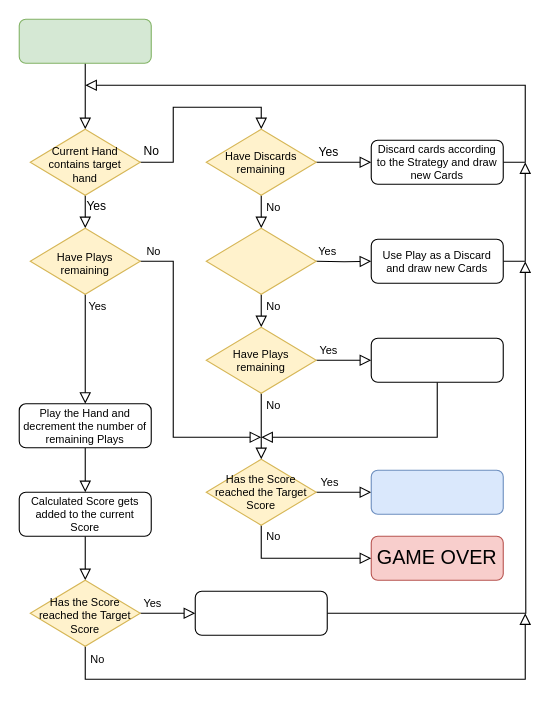
The diagram is 557 pixels wide and 710 high, and some of its shapes have lost their labels. The box of each missing label's shape, as (x1, y1, x2, y2) in pixels:
Find the best hand with the most score: (370, 337, 503, 382)
GAME WON: (370, 469, 503, 514)
Have more than 1 Play remaining: (205, 227, 316, 294)
Initialize Deck and draw 8 Cards to hand: (18, 18, 151, 63)
Number of remaining Play is recorded: (194, 590, 327, 635)
